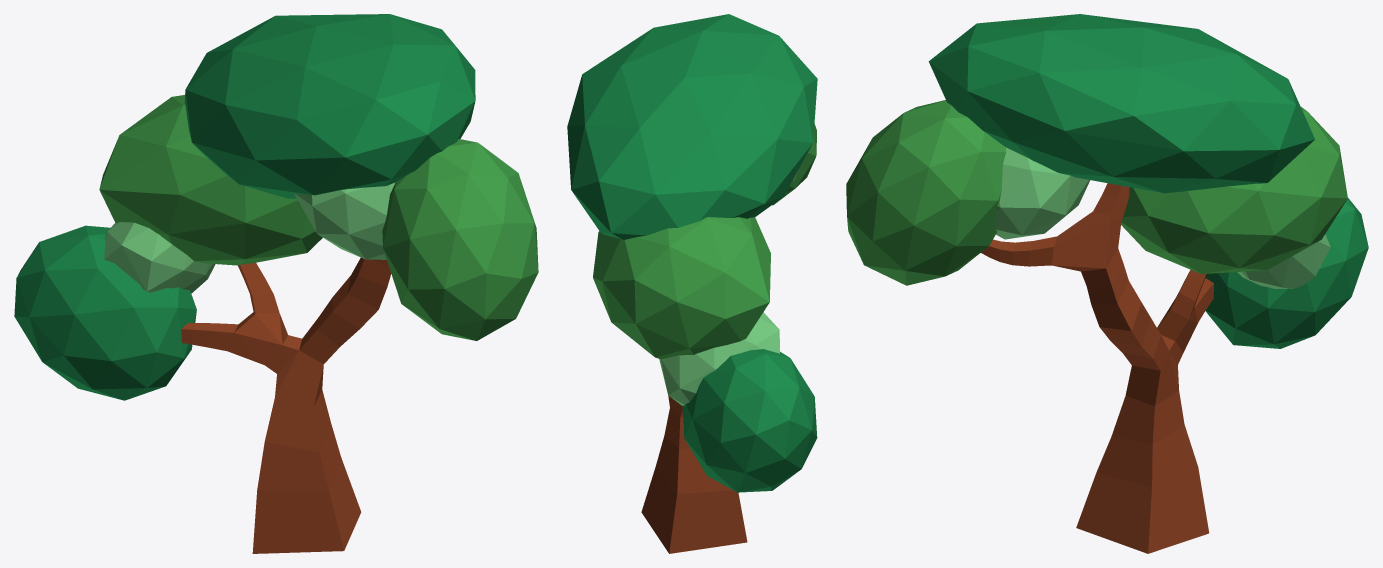
The model's file is RoundLeaveTree2.fbx.
The picture shows the model from 3 angles, left to right: view 1: azimuth 30°, elevation 25°; view 2: azimuth 150°, elevation 25°; view 3: azimuth 270°, elevation 25°; orthographic projection. The views are drawn at different scales.
Visible parts, largest first — view 1: Icosphere.009, Plane, Icosphere.010, Icosphere.013, Icosphere.012, Icosphere.011, Icosphere.014; view 2: Icosphere.009, Icosphere.012, Icosphere.013, Plane, Icosphere.014, Icosphere.010; view 3: Icosphere.009, Plane, Icosphere.010, Icosphere.012, Icosphere.013, Icosphere.011, Icosphere.014.
Part boxes in pixels (x1=…): Icosphere.009: x1=184, y1=14, x2=475, y2=198; Plane: x1=181, y1=257, x2=391, y2=553; Icosphere.010: x1=382, y1=139, x2=538, y2=340; Icosphere.013: x1=14, y1=225, x2=196, y2=400; Icosphere.012: x1=99, y1=95, x2=322, y2=265; Icosphere.011: x1=294, y1=182, x2=395, y2=259; Icosphere.014: x1=104, y1=222, x2=215, y2=293; Icosphere.009: x1=567, y1=14, x2=817, y2=240; Icosphere.012: x1=593, y1=217, x2=770, y2=359; Icosphere.013: x1=682, y1=349, x2=817, y2=492; Plane: x1=641, y1=395, x2=747, y2=553; Icosphere.014: x1=659, y1=312, x2=779, y2=405; Icosphere.010: x1=772, y1=124, x2=816, y2=205; Icosphere.009: x1=928, y1=14, x2=1314, y2=193; Plane: x1=981, y1=183, x2=1213, y2=553; Icosphere.010: x1=846, y1=100, x2=1006, y2=285; Icosphere.012: x1=1121, y1=107, x2=1347, y2=274; Icosphere.013: x1=1205, y1=198, x2=1368, y2=348; Icosphere.011: x1=995, y1=147, x2=1090, y2=239; Icosphere.014: x1=1237, y1=234, x2=1330, y2=288.
Bounding box in the file's own units: 374 × 553 × 500.
